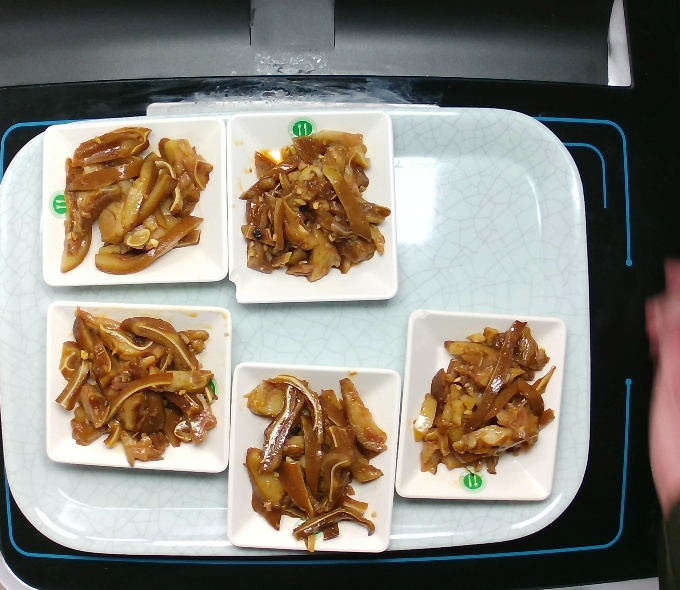wcq-ZhuErDuo: (245, 364, 386, 549), (411, 319, 557, 492), (63, 307, 224, 463), (238, 128, 392, 285), (62, 122, 212, 280)
